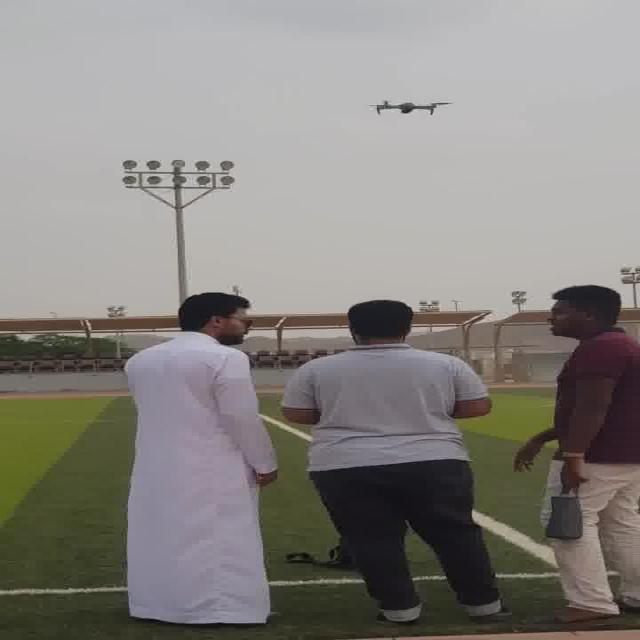drone: (357, 95, 458, 122)
